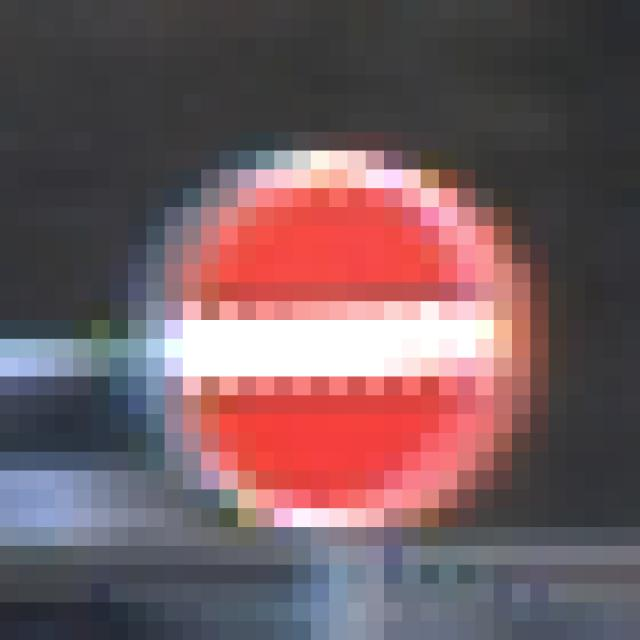No Entry: (111, 114, 550, 547)
